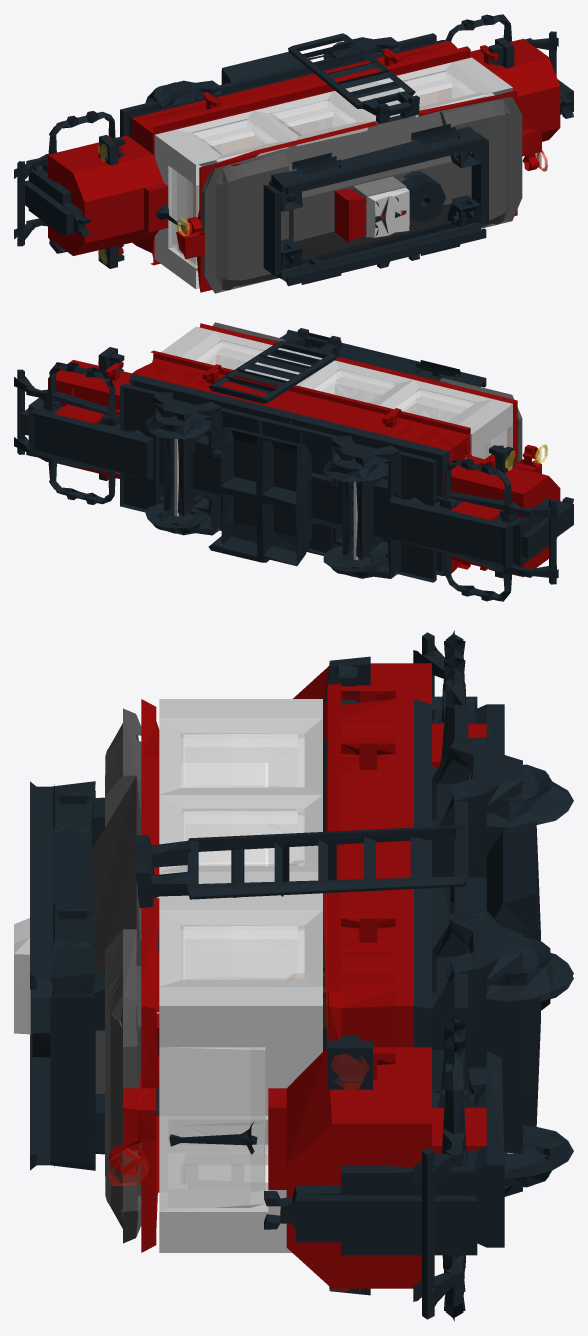
Rendered from pig-s-nose-train.glb.
The picture shows the model from 3 angles, top to bottom: view 1: azimuth 30°, elevation 25°; view 2: azimuth 150°, elevation 25°; view 3: azimuth 270°, elevation 25°; orthographic projection. The views are drawn at different scales.
Size of the model in its own units: 220 by 63.78 by 98.6.
